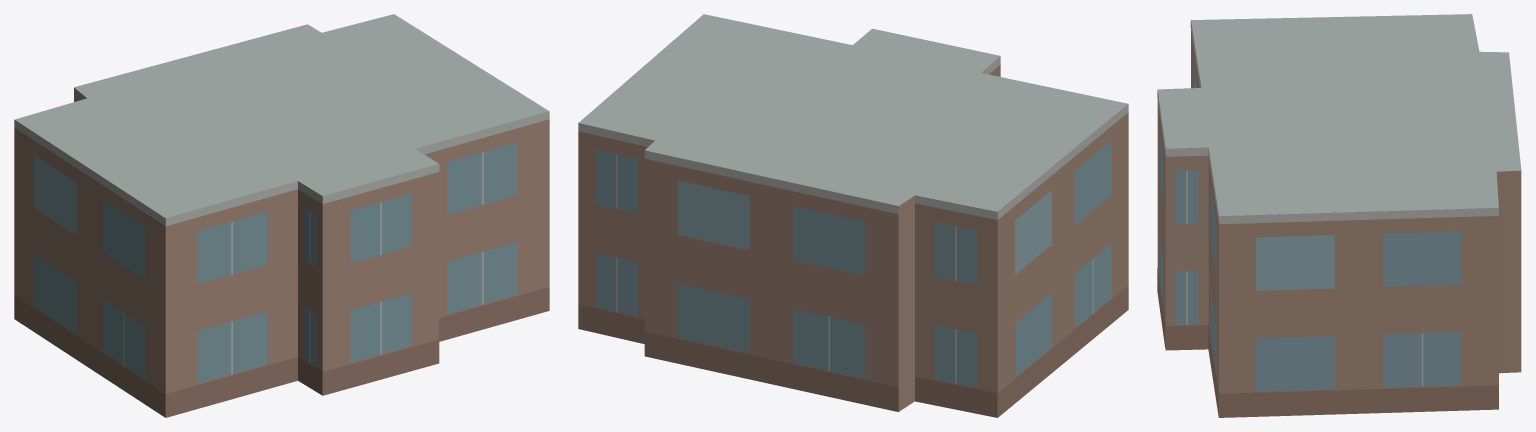
Rendered from survey-upis-32705340.glb.
3 renders of one model, left to right at view 1: azimuth 30°, elevation 25°; view 2: azimuth 150°, elevation 25°; view 3: azimuth 270°, elevation 25°, orthographic. The views are drawn at different scales.
Visible parts, largest first — view 1: survey-upis-32705340.tmp; view 2: survey-upis-32705340.tmp; view 3: survey-upis-32705340.tmp.
Part boxes in pixels (left/top/right/bottom): survey-upis-32705340.tmp: left=14, top=14, right=549, bottom=417; survey-upis-32705340.tmp: left=578, top=14, right=1128, bottom=417; survey-upis-32705340.tmp: left=1157, top=14, right=1521, bottom=417.
Size of the model in its own units: 13.13 by 6.1 by 9.99.
